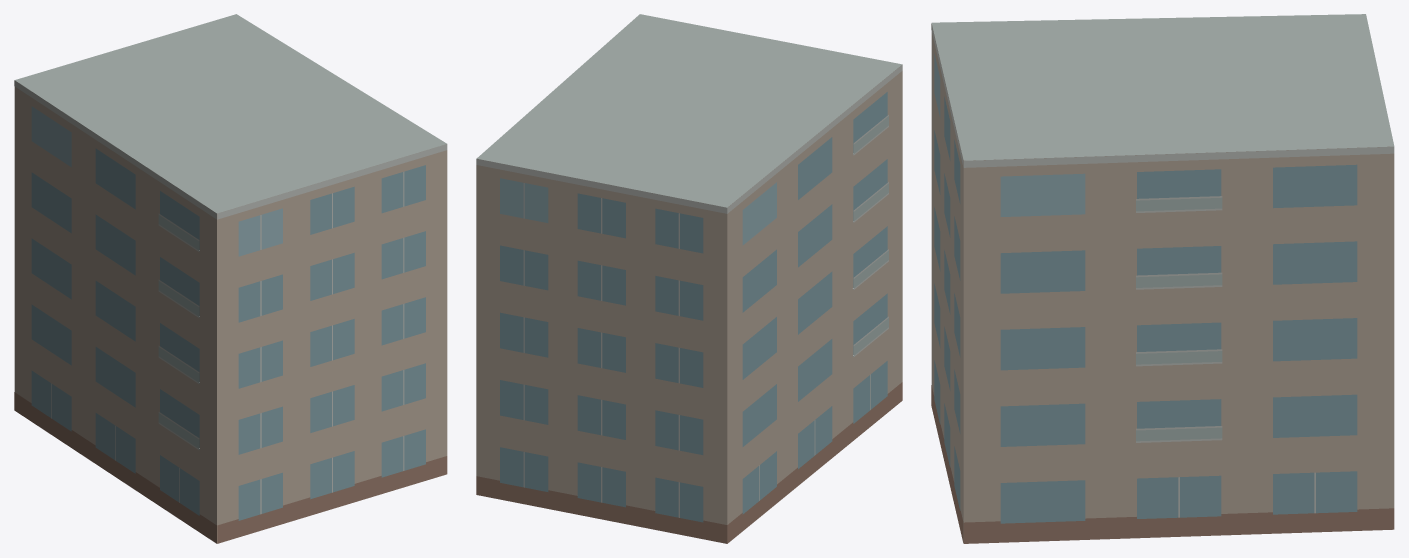
Rendered from survey-upis-32843784.glb.
3 views of the same model, side by side, from view 1: azimuth 30°, elevation 25°; view 2: azimuth 150°, elevation 25°; view 3: azimuth 270°, elevation 25° (orthographic). The views are drawn at different scales.
Visible parts, largest first — view 1: survey-upis-32843784.tmp; view 2: survey-upis-32843784.tmp; view 3: survey-upis-32843784.tmp.
Part boxes in pixels (x1=…): survey-upis-32843784.tmp: x1=14, y1=14, x2=447, y2=543; survey-upis-32843784.tmp: x1=476, y1=14, x2=902, y2=543; survey-upis-32843784.tmp: x1=931, y1=14, x2=1394, y2=543.
Bounding box in the file's own units: 10.77 × 13.1 × 14.36.
